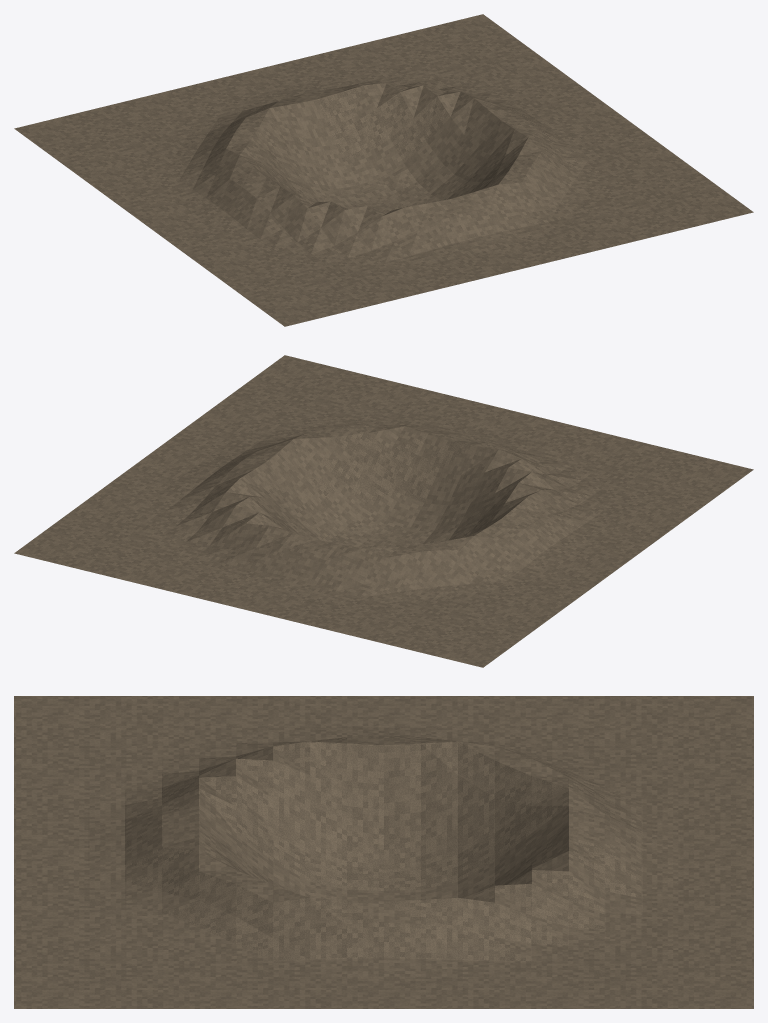
The picture shows the model from 3 angles, top to bottom: view 1: azimuth 30°, elevation 25°; view 2: azimuth 150°, elevation 25°; view 3: azimuth 270°, elevation 25°; orthographic projection. The views are drawn at different scales.
Visible parts, largest first — view 1: ST2-T03_Mesh; view 2: ST2-T03_Mesh; view 3: ST2-T03_Mesh.
Part boxes in pixels (x1=…): ST2-T03_Mesh: x1=14, y1=14, x2=753, y2=326; ST2-T03_Mesh: x1=14, y1=355, x2=753, y2=667; ST2-T03_Mesh: x1=14, y1=696, x2=753, y2=1008.
Bounding box in the file's own units: 8 × 1.04 × 8.
